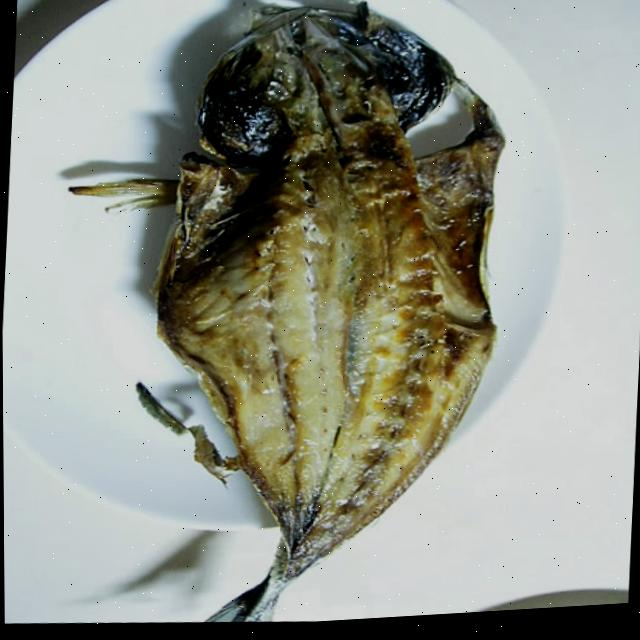熟制海鲜: (117, 0, 537, 635)
